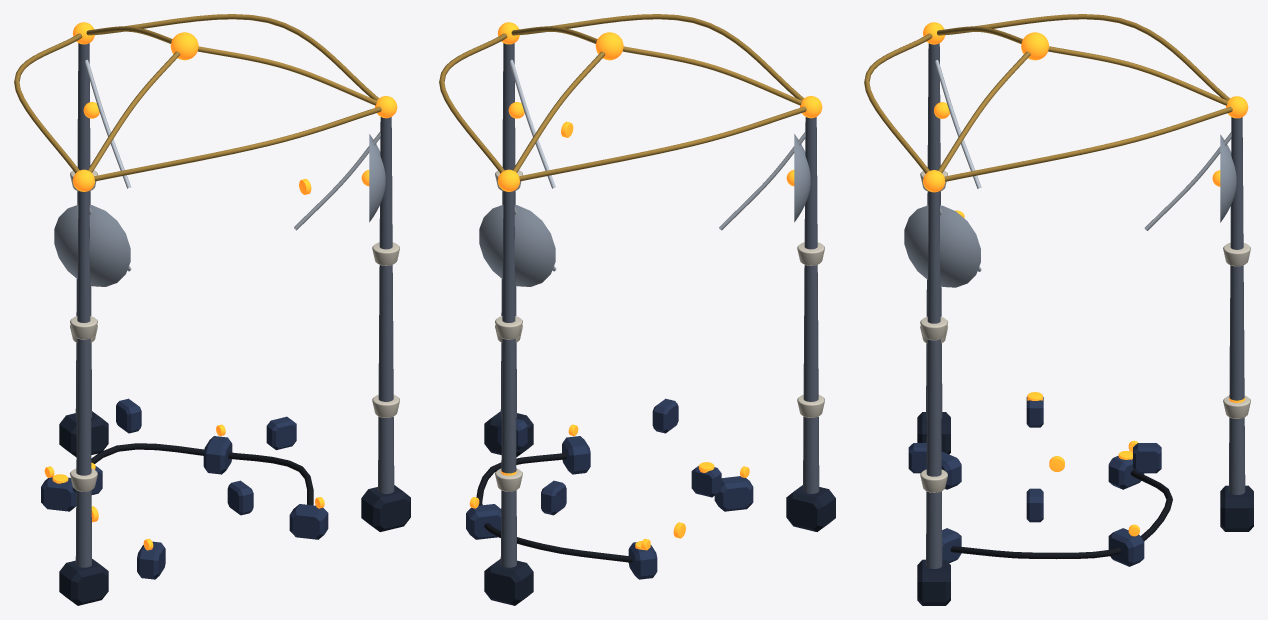
The model's file is tower_overclock_network_s10.glb.
The picture shows the model from 3 angles, left to right: view 1: azimuth 30°, elevation 25°; view 2: azimuth 150°, elevation 25°; view 3: azimuth 270°, elevation 25°; orthographic projection.
Parts seen in each view (by area): view 1: overclock_antenna2, overclock_antenna1, overclock_link_dish2, overclock_antenna0, overclock_antenna_foot2, overclock_antenna_foot1, overclock_lattice1, overclock_lattice0, overclock_relay_cable, overclock_antenna_foot0, overclock_relay2, overclock_lattice2 (+13 smaller); view 2: overclock_antenna0, overclock_antenna2, overclock_link_dish0, overclock_antenna1, overclock_antenna_foot0, overclock_antenna_foot2, overclock_lattice2, overclock_relay_cable, overclock_lattice1, overclock_lattice0, overclock_lattice_in2, overclock_relay3 (+13 smaller); view 3: overclock_antenna1, overclock_antenna0, overclock_link_dish1, overclock_antenna2, overclock_relay_cable, overclock_lattice0, overclock_lattice2, overclock_antenna_foot0, overclock_antenna_foot1, overclock_lattice1, overclock_lattice_in0, overclock_relay1 (+13 smaller).
Boxes of the visible parts, x1,y1,x2,y2 form: overclock_antenna2: (75, 190, 91, 567); overclock_antenna1: (378, 117, 394, 493); overclock_link_dish2: (54, 205, 130, 286); overclock_antenna0: (75, 43, 91, 418); overclock_antenna_foot2: (59, 559, 108, 605); overclock_antenna_foot1: (361, 485, 410, 531); overclock_lattice1: (94, 106, 381, 181); overclock_lattice0: (95, 14, 378, 100); overclock_relay_cable: (91, 443, 313, 505); overclock_antenna_foot0: (59, 411, 108, 457); overclock_relay2: (289, 504, 328, 539); overclock_lattice2: (14, 33, 82, 173); overclock_antenna0: (500, 190, 516, 567); overclock_antenna2: (803, 117, 819, 493); overclock_link_dish0: (479, 205, 555, 286); overclock_antenna1: (500, 43, 516, 418); overclock_antenna_foot0: (484, 559, 533, 605); overclock_antenna_foot2: (786, 485, 835, 531); overclock_lattice2: (519, 106, 806, 181); overclock_relay_cable: (476, 452, 632, 562); overclock_lattice1: (520, 14, 803, 100); overclock_lattice0: (439, 33, 507, 173); overclock_lattice_in2: (622, 46, 802, 105); overclock_relay3: (714, 476, 753, 511); overclock_antenna1: (926, 191, 942, 568); overclock_antenna0: (1228, 117, 1245, 494); overclock_link_dish1: (904, 205, 980, 287); overclock_antenna2: (926, 43, 942, 418); overclock_relay_cable: (950, 470, 1172, 559); overclock_lattice0: (944, 106, 1232, 181); overclock_lattice2: (945, 14, 1229, 100); overclock_antenna_foot0: (1220, 485, 1253, 531); overclock_antenna_foot1: (917, 559, 950, 605); overclock_lattice1: (864, 33, 932, 173); overclock_lattice_in0: (1048, 46, 1228, 105); overclock_relay1: (1108, 528, 1144, 566).
Bounding box in the file's own units: 1.4 × 1.94 × 1.39.
